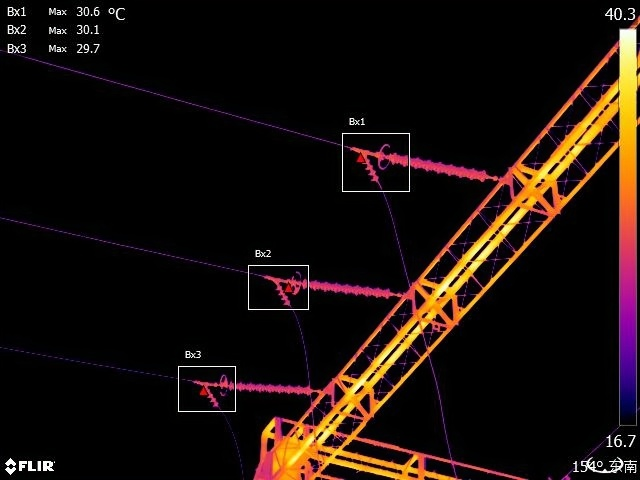insulator: (381, 142, 486, 188), (215, 368, 313, 402), (289, 270, 391, 302)
tube: (357, 150, 380, 183), (271, 280, 296, 310), (203, 384, 221, 409)
